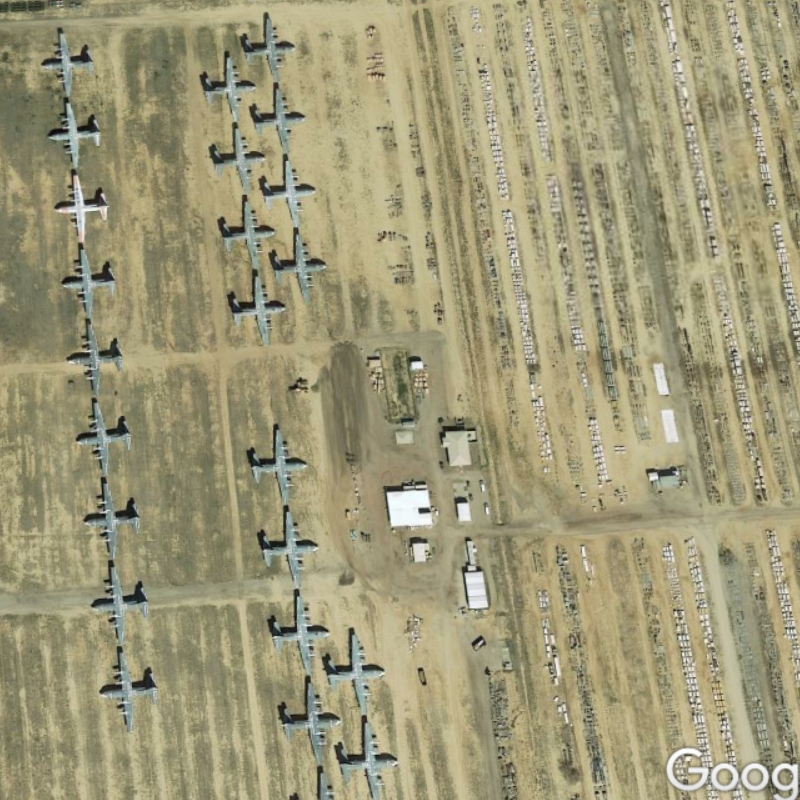A2: (241, 415, 318, 511), (252, 494, 324, 586), (336, 717, 413, 800), (274, 674, 343, 766), (322, 625, 392, 713), (81, 477, 154, 561), (99, 644, 164, 738), (223, 263, 293, 350), (45, 163, 120, 244), (269, 224, 337, 308), (32, 25, 106, 100), (265, 589, 331, 672), (90, 561, 154, 644), (56, 239, 121, 320), (65, 319, 130, 400), (73, 399, 140, 476), (260, 151, 330, 224), (193, 45, 257, 124), (248, 78, 312, 154), (42, 100, 109, 172), (234, 8, 298, 83), (212, 191, 275, 266), (204, 120, 265, 197)
